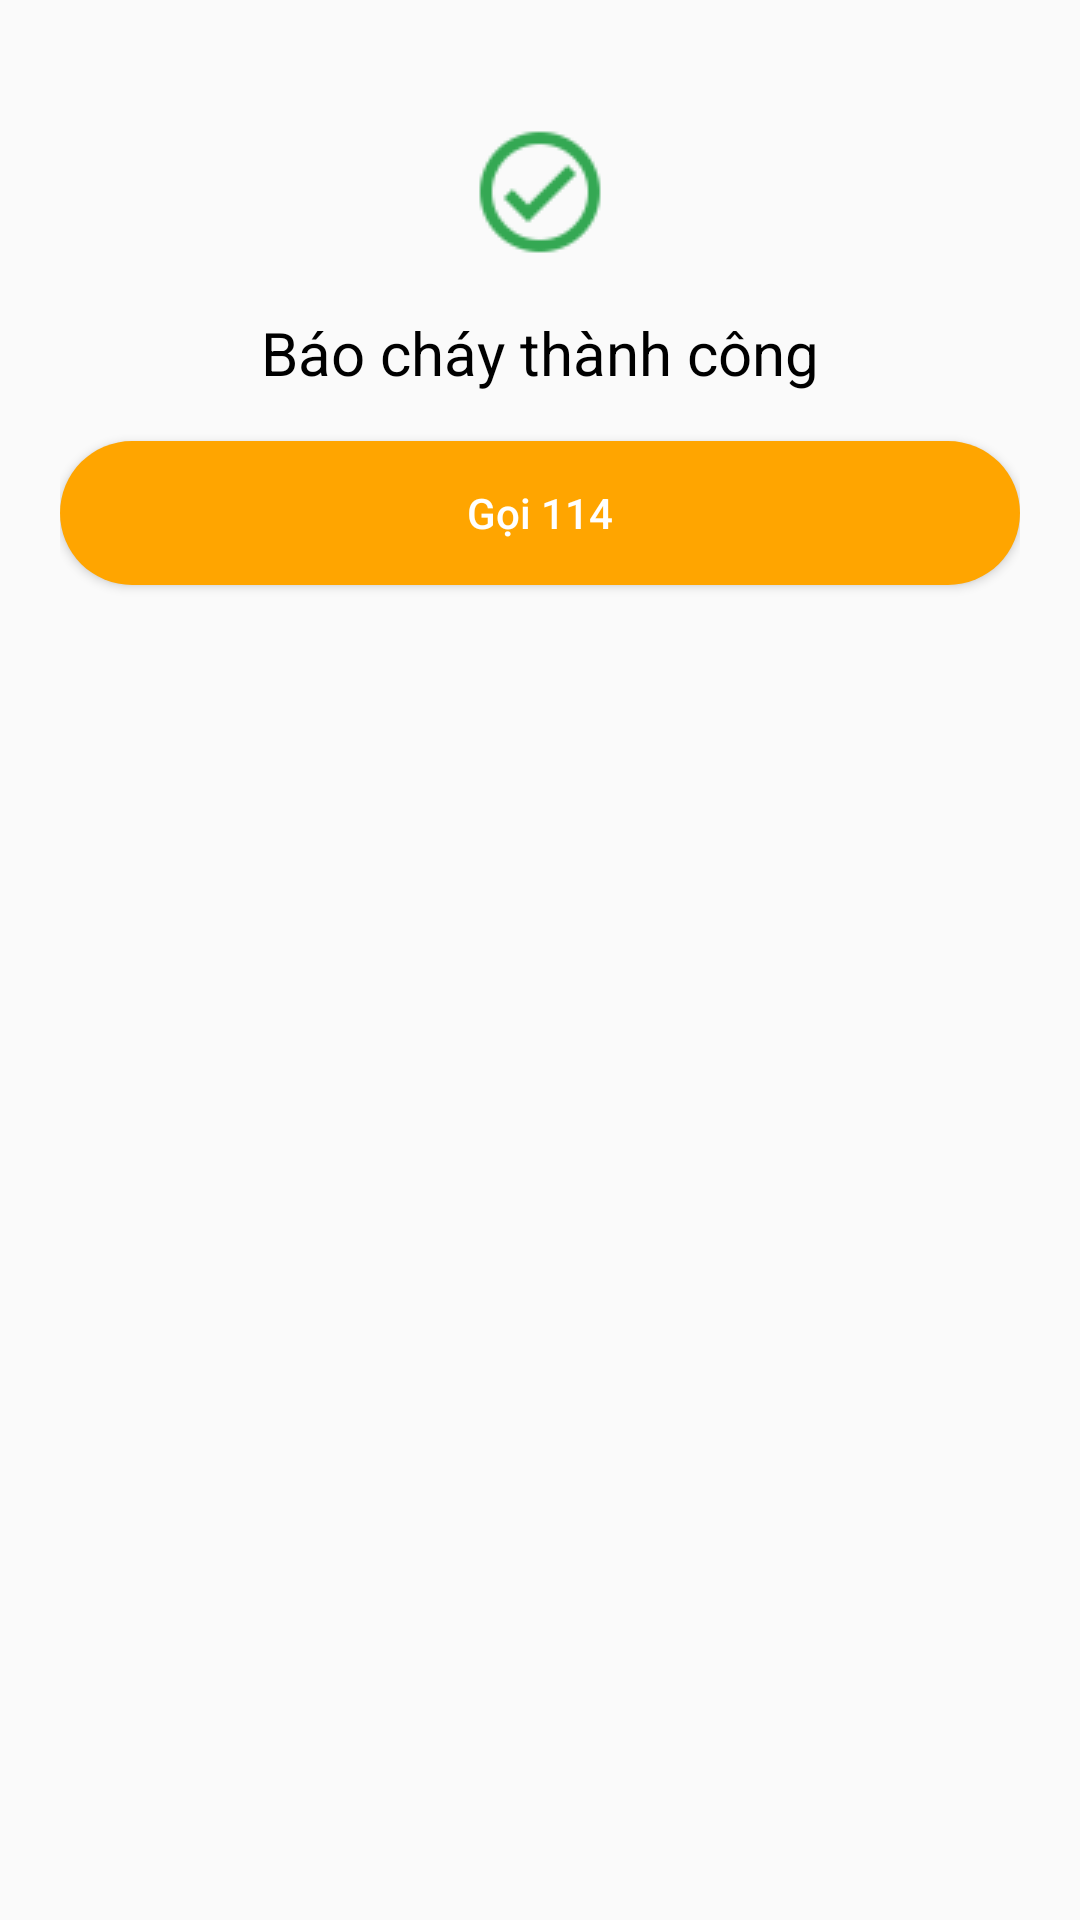

Screen size 1080px×1920px. Icon name, then its box in pixels as (x1, y1, x2, y2):
check circle: (479, 131, 601, 253)
